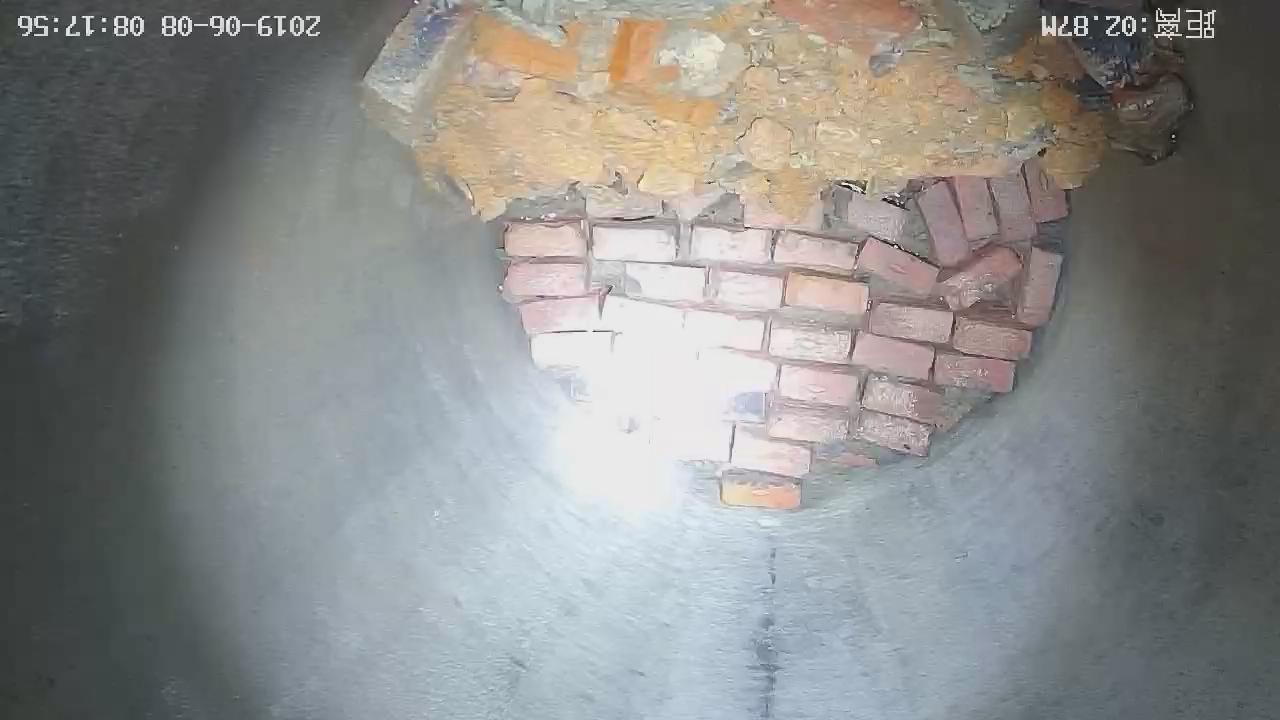CJ: (367, 1, 1191, 218)
CQBG: (499, 162, 1068, 508)
